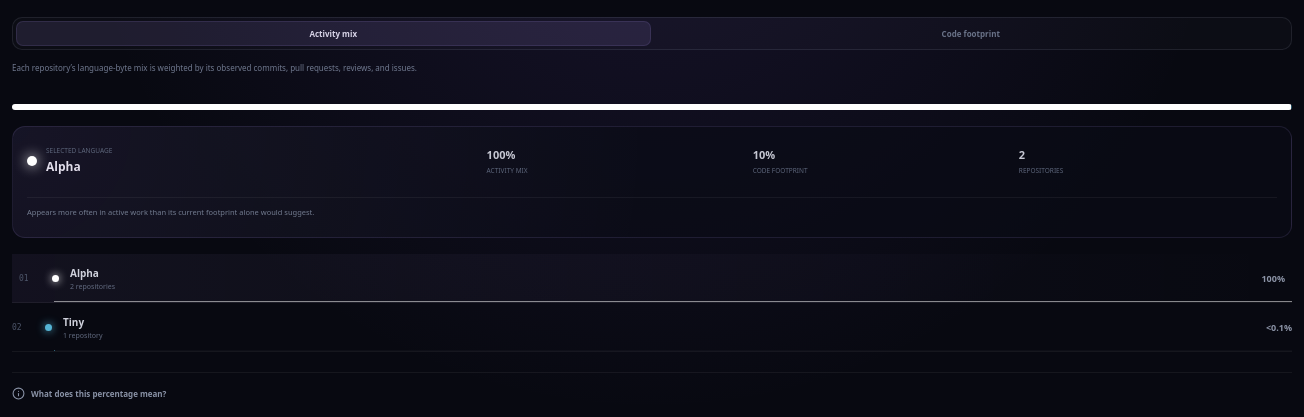
Test: LanguageLandscape › keeps tiny nonzero shares visible and lets the basis change
expect the text "<0.1%" is shown: met, box [1266,320,1292,334]
Click the button "Code footprint": (971, 34) [654,21,1288,46]
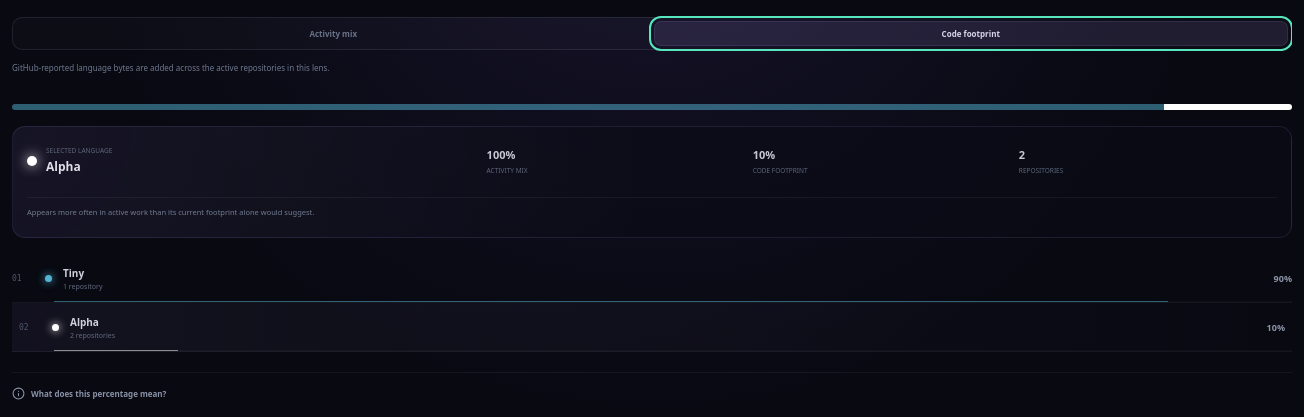
expect the text "90%" is shown: met, box [1274,272,1292,284]
Click the button "01 Tiny 1 repository 90%": (86, 286) [12,254,1292,303]
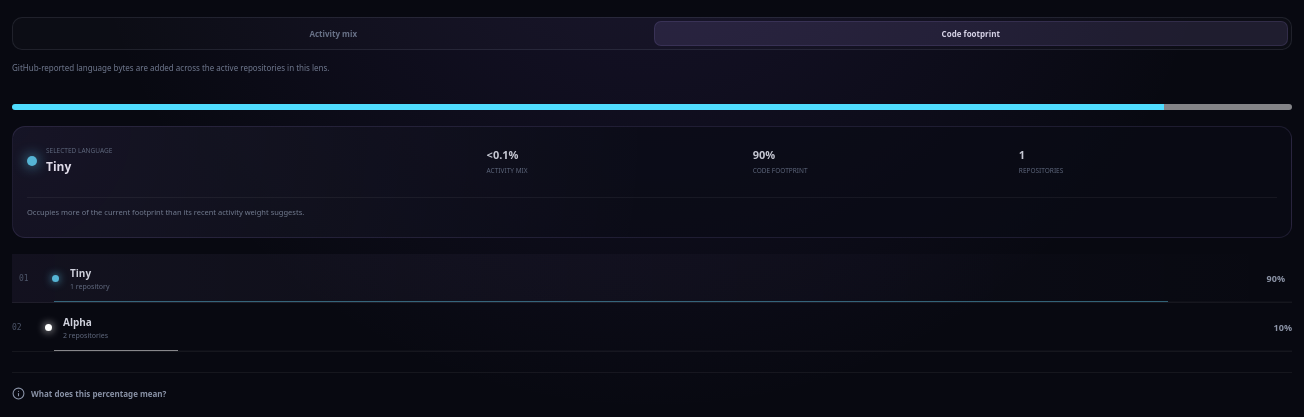
expect the text "Occupies more of the current footprint" is shown: met, box [27,207,304,217]
